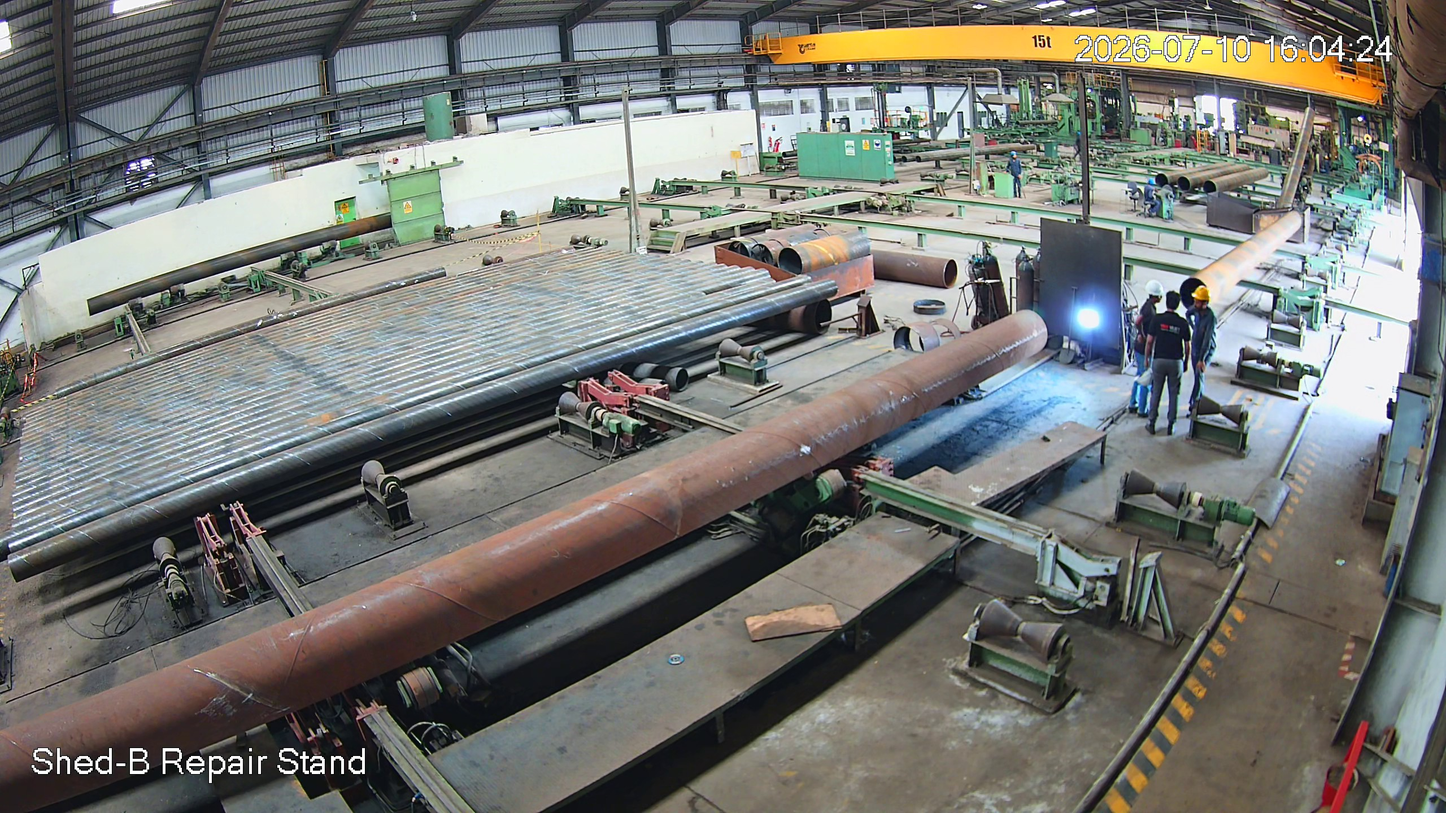Helmet: (1188, 282, 1213, 316), (1141, 273, 1164, 303)
Person: (1122, 279, 1166, 418), (1148, 289, 1181, 435), (1184, 285, 1219, 417)
